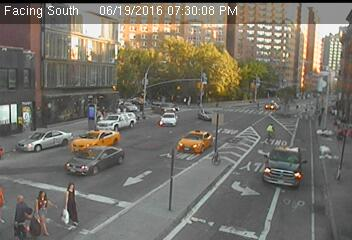neg: (57, 70, 77, 95), (319, 167, 337, 192), (261, 118, 279, 142), (289, 171, 307, 195), (124, 23, 142, 47), (201, 41, 217, 63), (82, 53, 98, 74), (13, 37, 28, 57), (223, 167, 237, 186), (202, 10, 216, 29), (194, 115, 208, 133), (272, 52, 286, 70), (86, 13, 99, 32), (198, 145, 211, 163), (240, 10, 253, 28), (116, 112, 129, 129), (313, 19, 326, 36), (56, 34, 68, 51), (81, 136, 93, 151), (148, 127, 159, 142), (137, 67, 148, 82), (170, 14, 181, 29), (314, 128, 324, 142), (55, 102, 65, 116), (108, 143, 118, 157), (22, 70, 31, 83), (265, 171, 274, 183), (156, 51, 165, 63), (275, 13, 284, 25), (53, 133, 61, 144), (30, 97, 37, 107), (24, 144, 30, 151), (32, 121, 37, 128)
pos: (54, 178, 89, 225), (27, 185, 62, 232)
